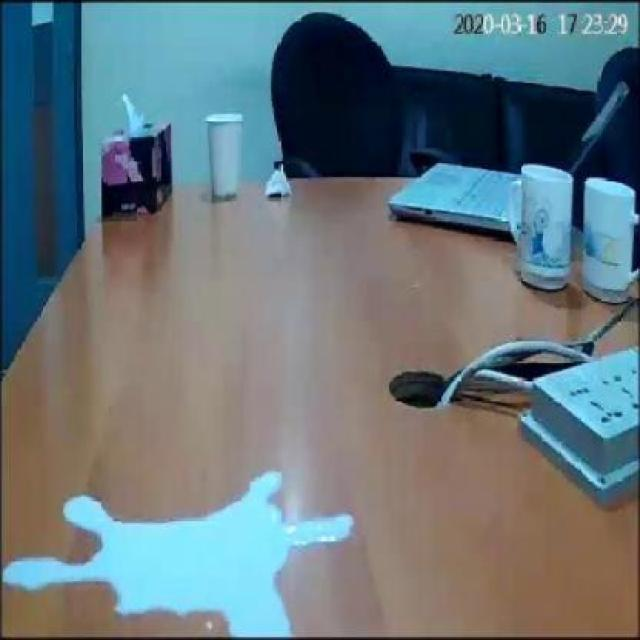spillage: (3, 472, 355, 638)
